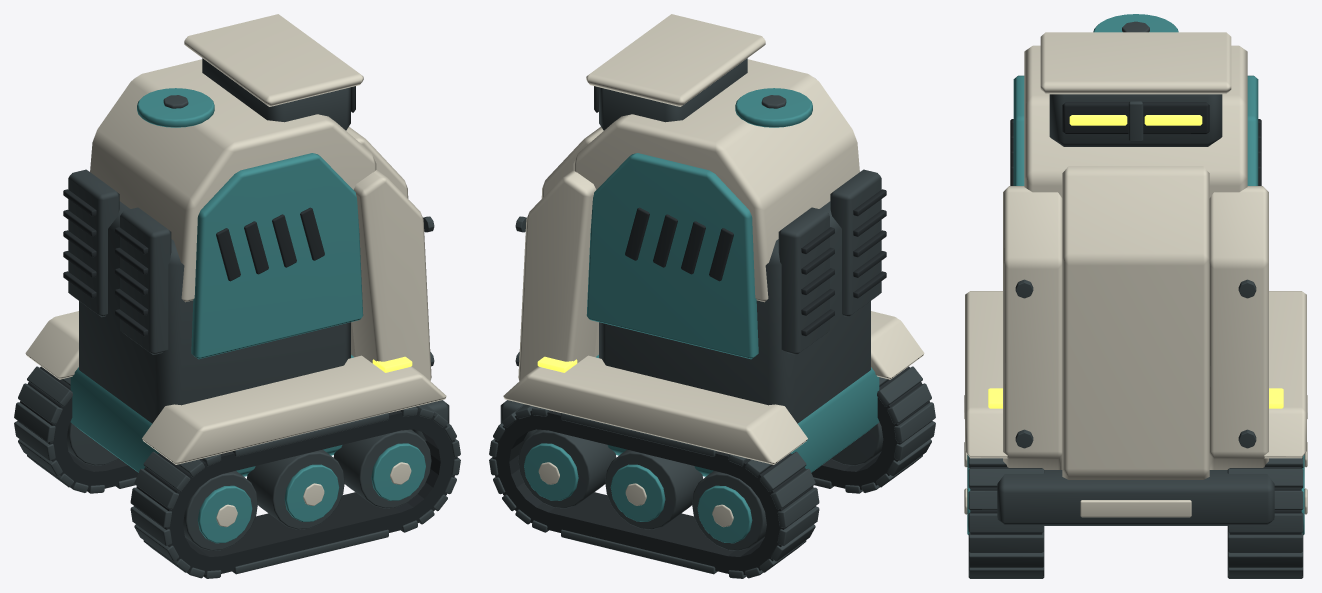
File: SM_CP_ChargeChassis.fbx
3 renders of one model, left to right at view 1: azimuth 30°, elevation 25°; view 2: azimuth 150°, elevation 25°; view 3: azimuth 270°, elevation 25°, orthographic. The views are drawn at different scales.
Visible parts, largest first — view 1: SM_CP_ChargeChassis; view 2: SM_CP_ChargeChassis; view 3: SM_CP_ChargeChassis.
Boxes of the visible parts, bbox=[...] form: SM_CP_ChargeChassis: bbox=[14, 14, 460, 578]; SM_CP_ChargeChassis: bbox=[489, 14, 935, 578]; SM_CP_ChargeChassis: bbox=[964, 14, 1307, 578].
Size of the model in its own units: 1.09 by 0.954 by 1.49.
